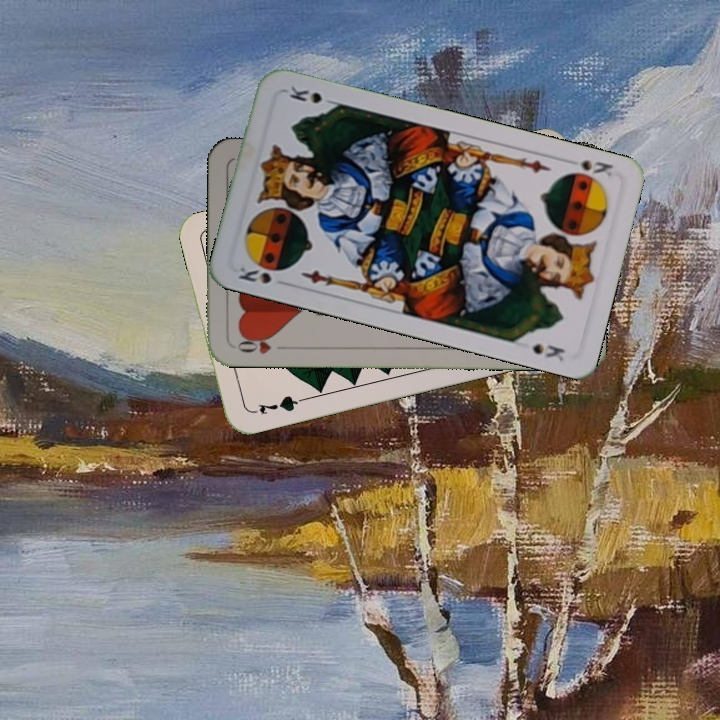G7: (247, 391, 305, 417)
HO: (233, 331, 290, 357)
SK: (561, 154, 616, 185), (234, 262, 274, 287)
